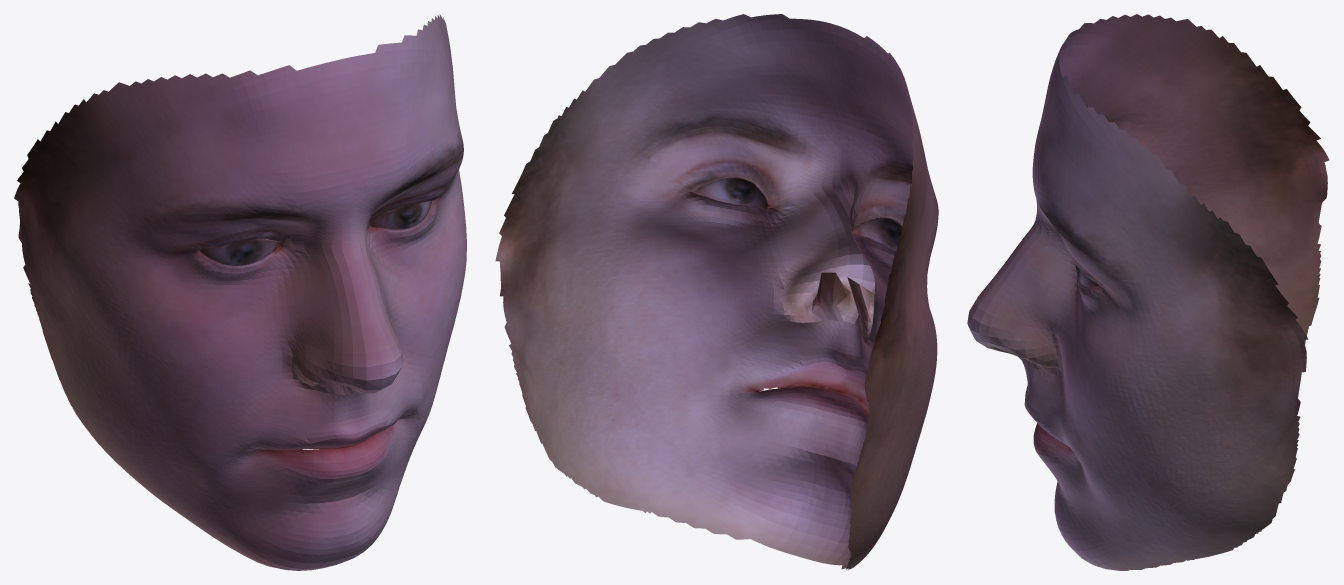
3 views of the same model, side by side, from view 1: azimuth 30°, elevation 25°; view 2: azimuth 150°, elevation 25°; view 3: azimuth 270°, elevation 25° (orthographic). The views are drawn at different scales.
Size of the model in its own units: 1.39 by 1.78 by 1.17.
